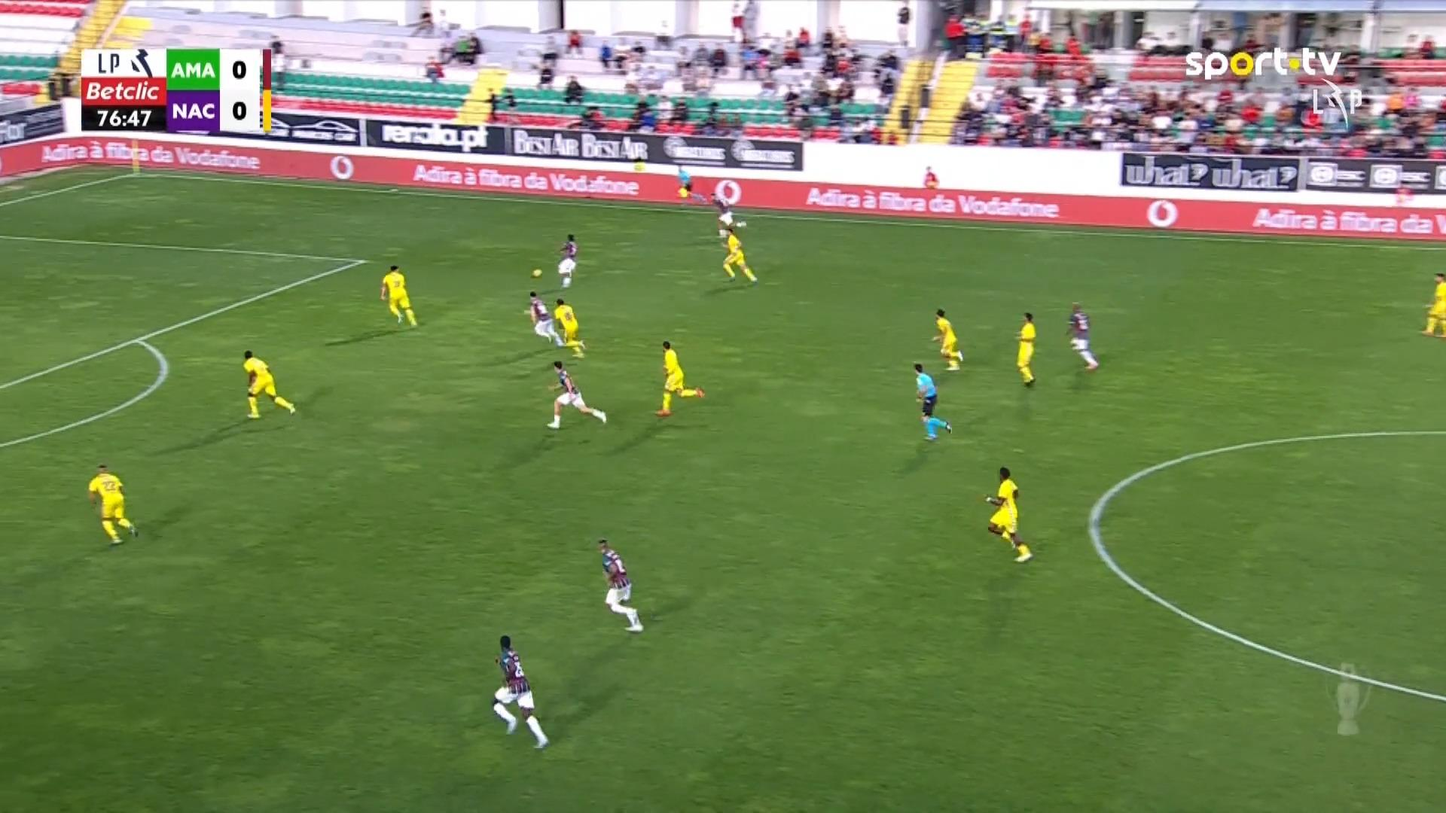ball: (531, 269, 541, 278)
player: (491, 634, 549, 748), (984, 465, 1033, 562), (596, 537, 644, 632), (87, 462, 139, 545), (546, 360, 606, 429), (654, 340, 704, 417), (242, 349, 296, 419), (1064, 301, 1099, 370), (380, 263, 417, 328), (527, 290, 565, 347), (721, 227, 758, 285), (553, 296, 587, 358), (930, 307, 963, 370), (709, 192, 746, 237), (1014, 311, 1036, 386), (1420, 272, 1444, 336), (557, 233, 578, 288)
referee: (912, 361, 951, 441), (675, 163, 706, 203)
